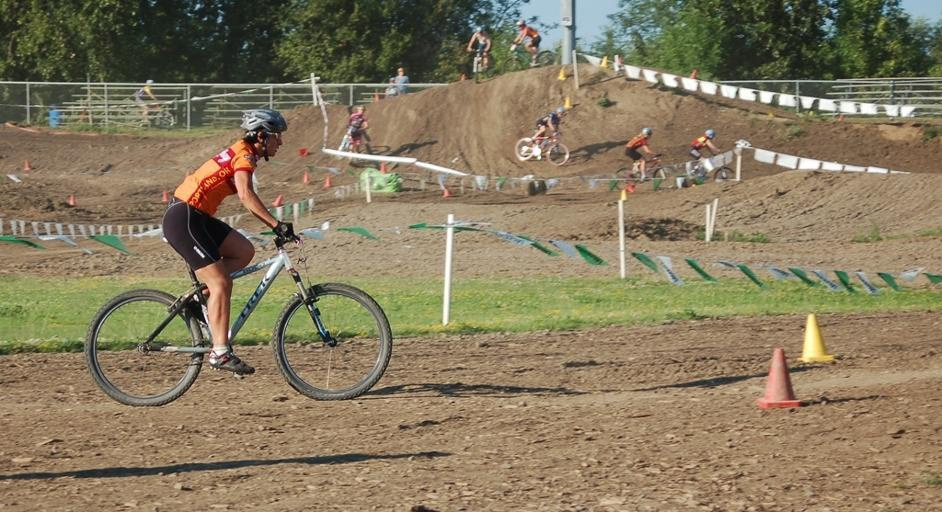non-vehicle: (84, 221, 394, 407), (613, 153, 677, 190), (513, 127, 569, 167), (676, 150, 735, 187), (124, 98, 173, 129), (501, 46, 555, 74), (468, 47, 496, 83), (346, 126, 367, 166)
